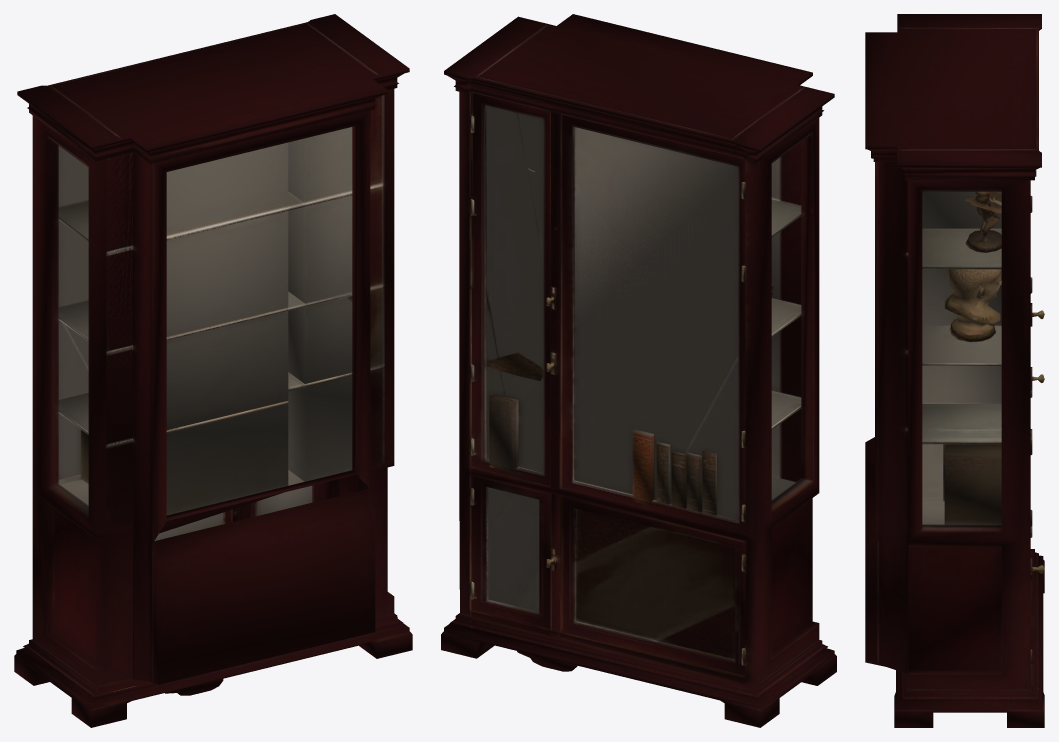
The model's file is furniture-display-cabinet.glb.
The picture shows the model from 3 angles, left to right: view 1: azimuth 30°, elevation 25°; view 2: azimuth 150°, elevation 25°; view 3: azimuth 270°, elevation 25°; orthographic projection. The views are drawn at different scales.
Visible parts, largest first — view 1: tripo_node_9a6baf5d-62c6-4e2d-9f86-390dbe20a438; view 2: tripo_node_9a6baf5d-62c6-4e2d-9f86-390dbe20a438; view 3: tripo_node_9a6baf5d-62c6-4e2d-9f86-390dbe20a438.
Part boxes in pixels (<box>): tripo_node_9a6baf5d-62c6-4e2d-9f86-390dbe20a438: <box>14,14,412,727</box>; tripo_node_9a6baf5d-62c6-4e2d-9f86-390dbe20a438: <box>441,14,836,727</box>; tripo_node_9a6baf5d-62c6-4e2d-9f86-390dbe20a438: <box>865,14,1044,727</box>.
Bounding box in the file's own units: 1.3 × 2.25 × 0.65.
Materials: 1 (1 with a texture image).
